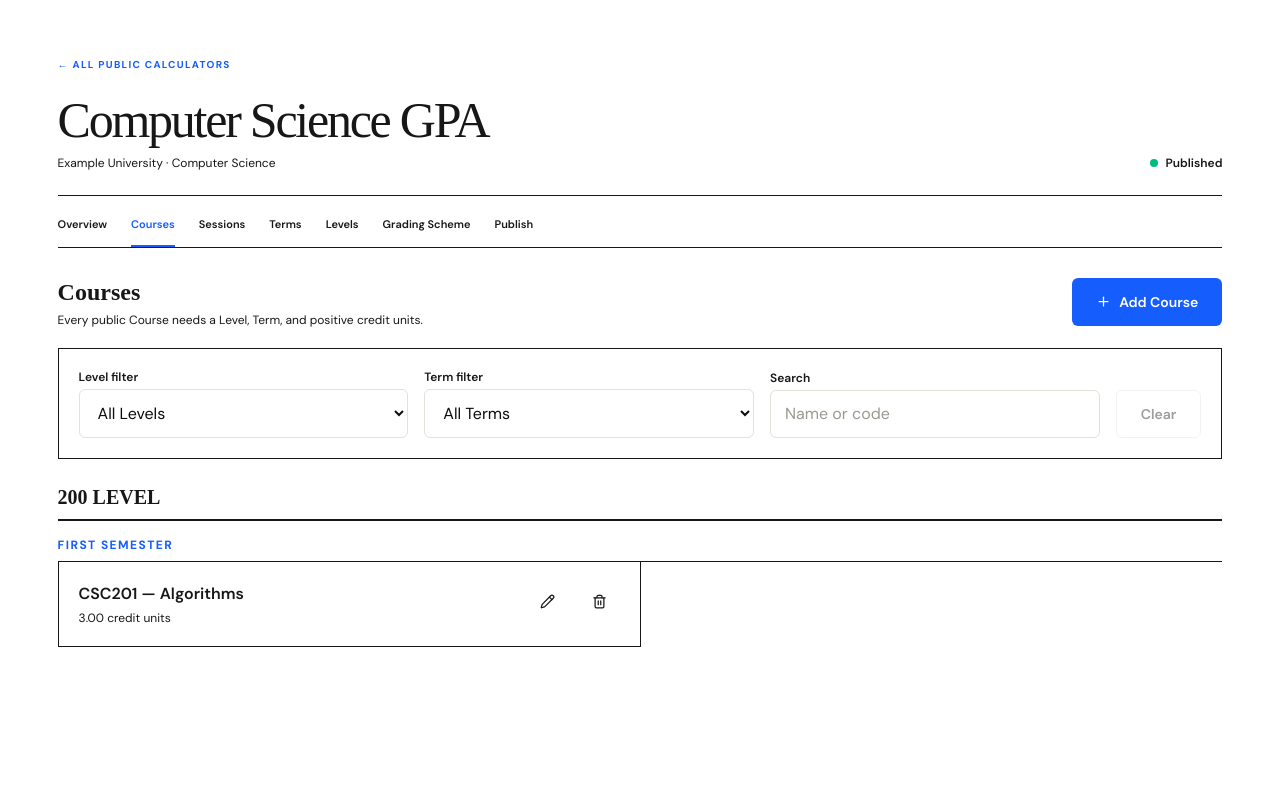
Test case: public calculator management › refetches publication status after a Course mutation automatically unpublishes
The width and height of the screenshot is (1280, 800).
Expected: the button named "Edit Algorithms" is shown, [528,582,568,622]
Click the button "Add Course".
click(1147, 302)  # box [1072,278,1222,326]
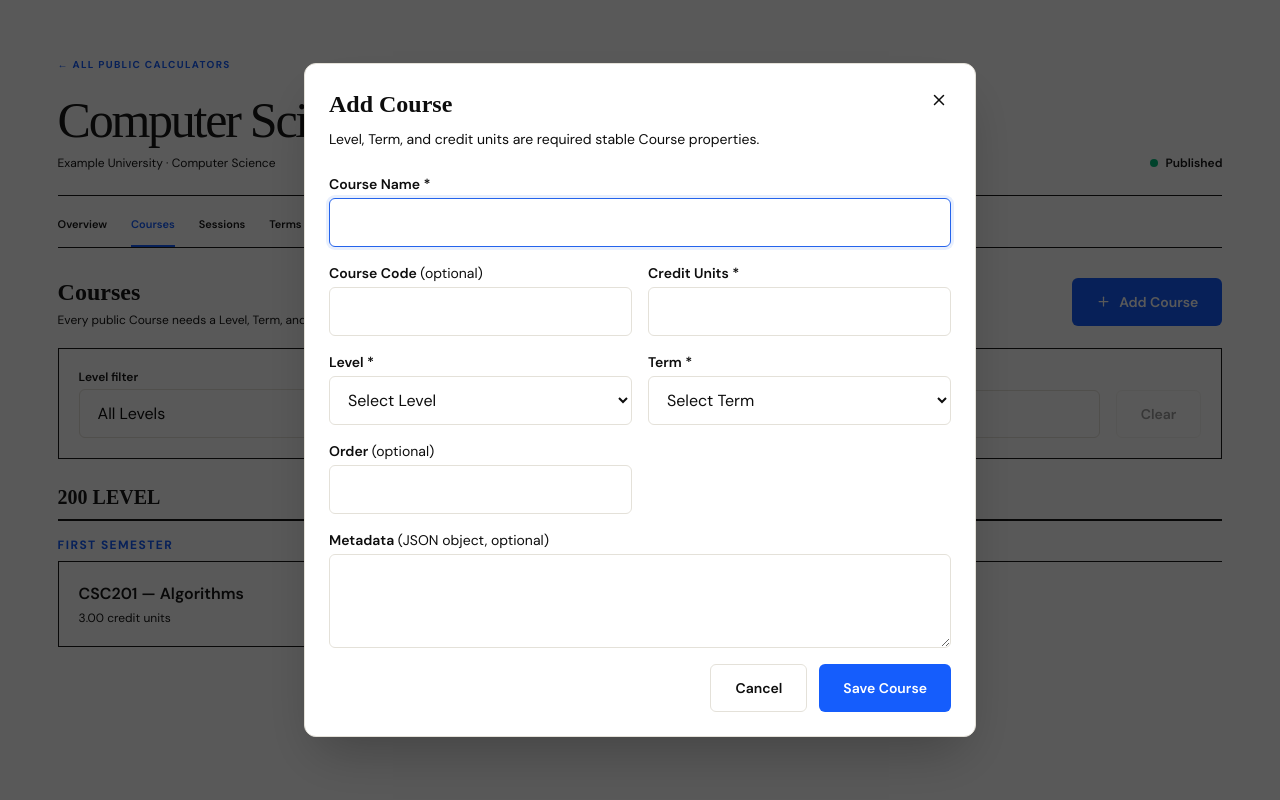
Type "Databases" into the field labelled "Course Name *".
click(640, 223); type("Databases")  # box [329,198,951,247]
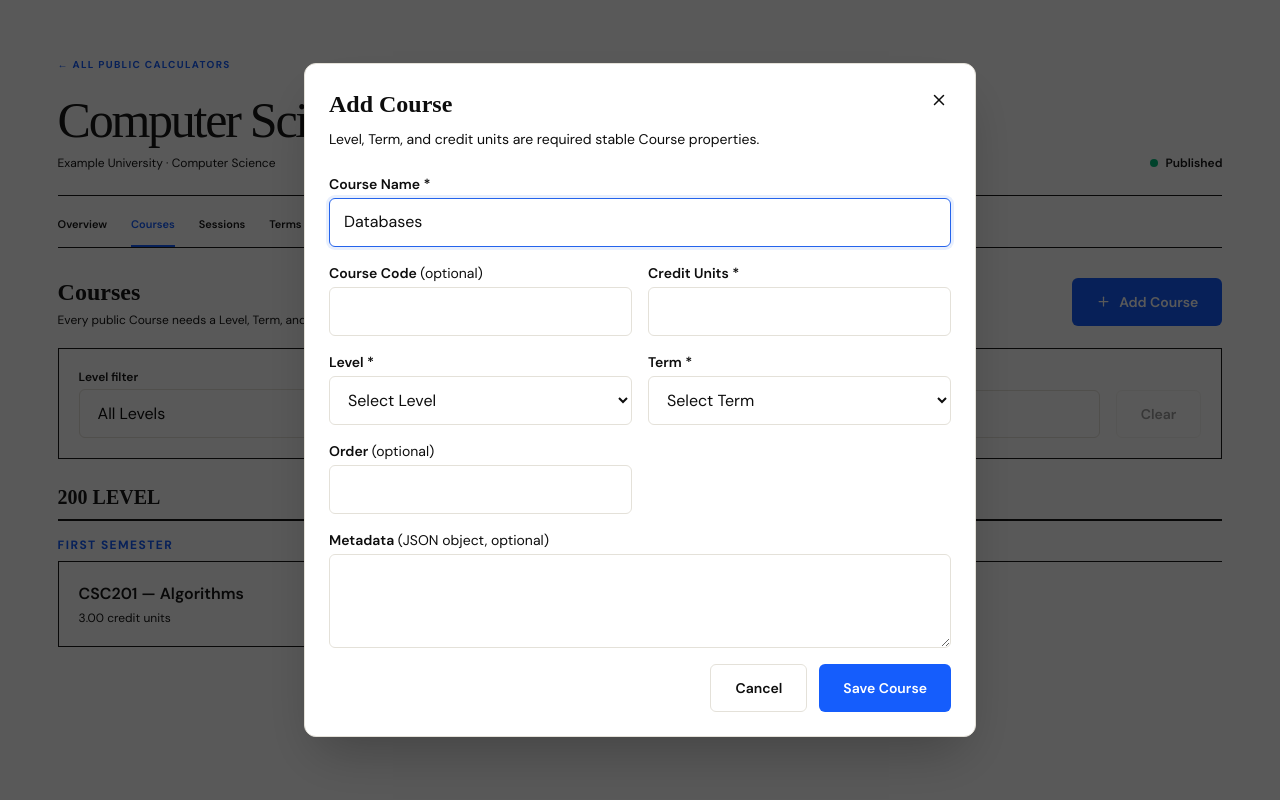
Type "4" into the number field labelled "Credit Units *".
click(800, 312); type("4")  # box [648,287,951,336]
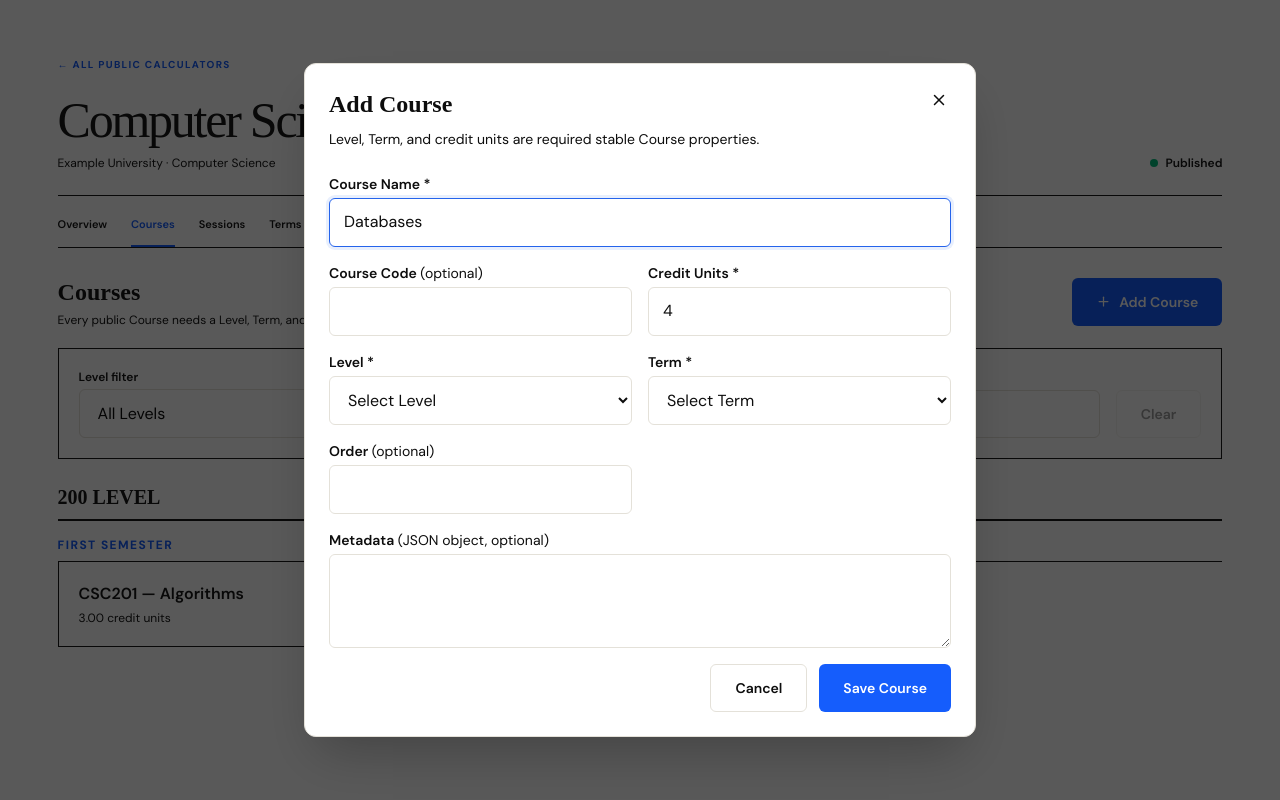
Select "200 Level" in the dropdown labelled "Level *" at [480, 400], box [329,376,632,425]
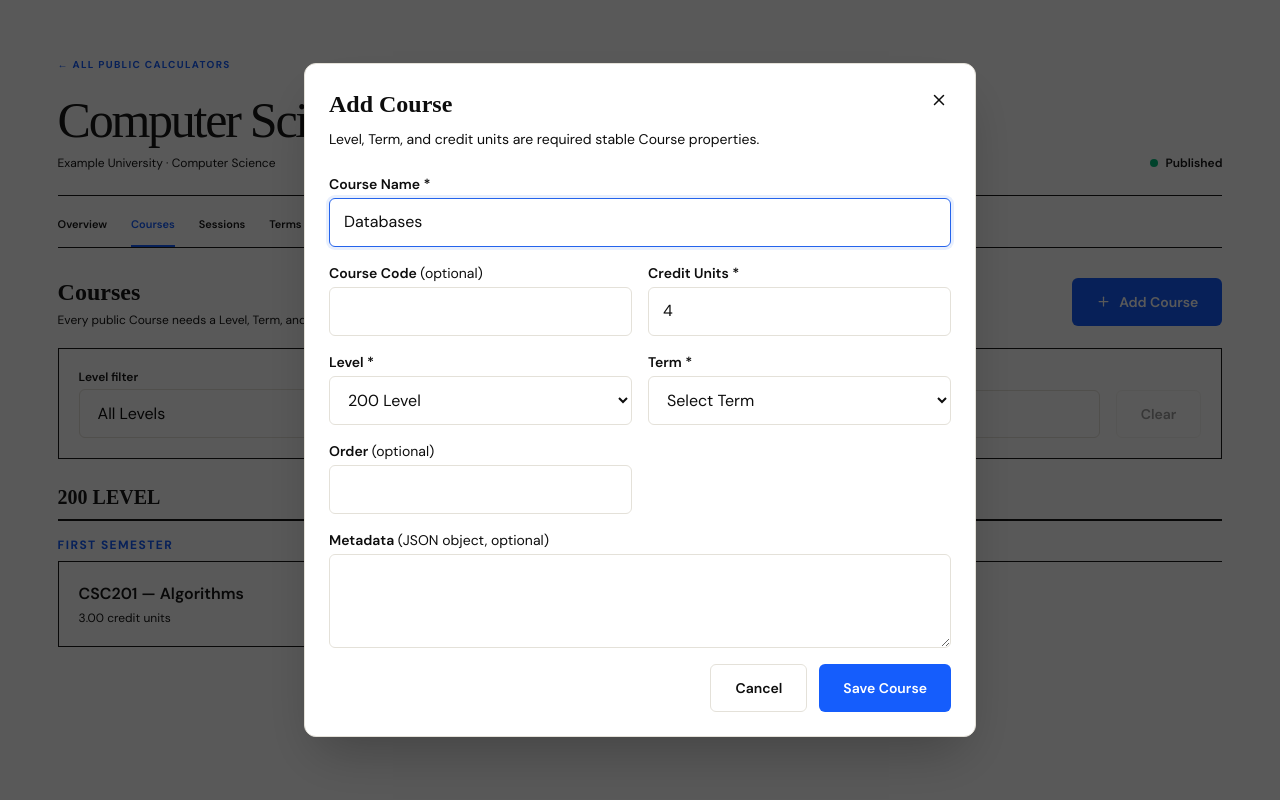
Select "First Semester" in the dropdown labelled "Term *" at [800, 400], box [648,376,951,425]
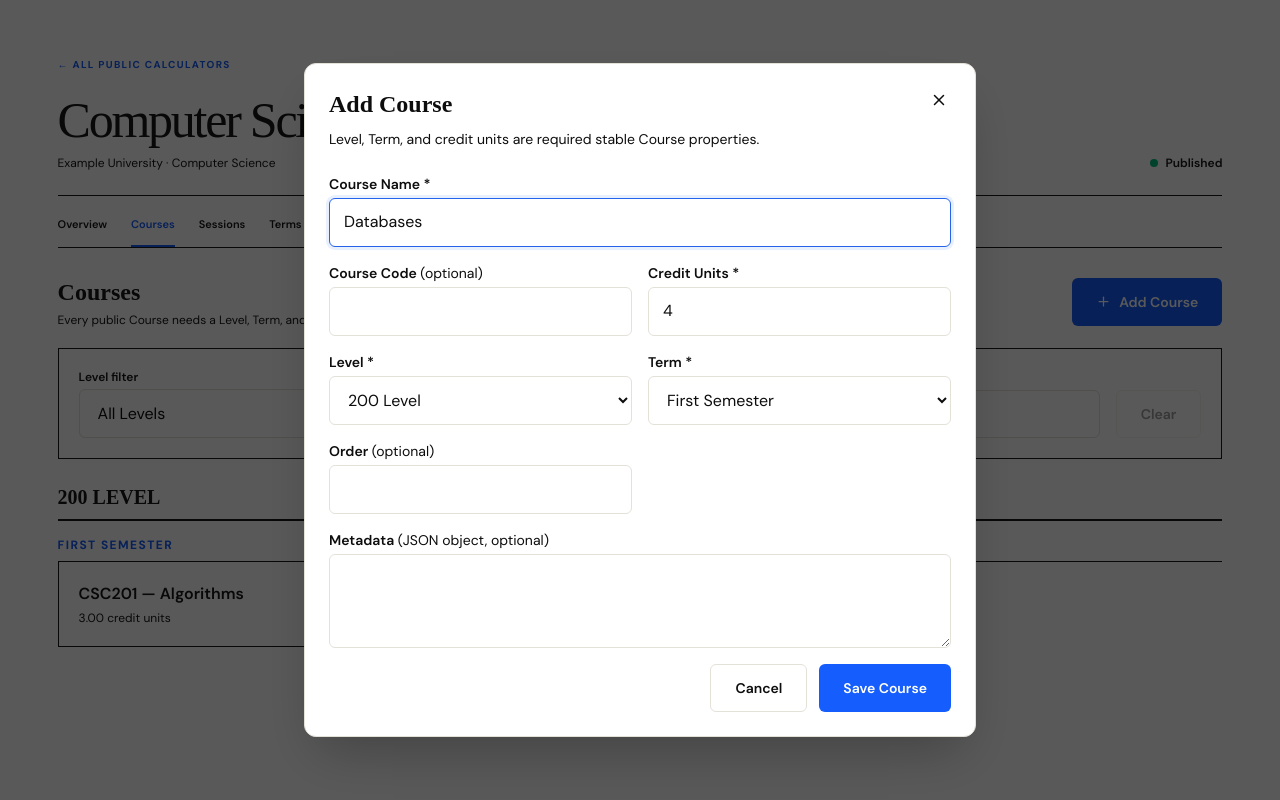
Click the button "Save Course".
click(885, 688)  # box [819,664,951,712]
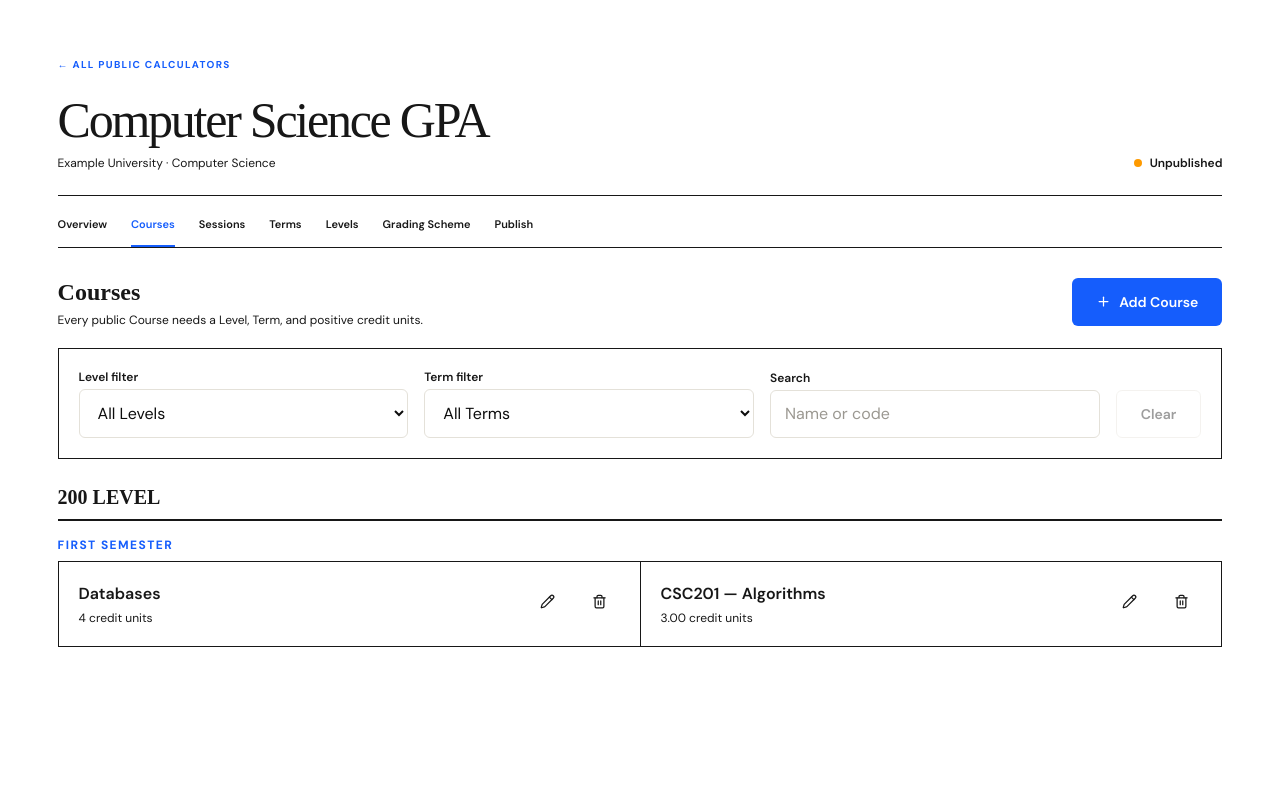
Expected: the text "Unpublished" is shown, [1134,155,1222,171]
